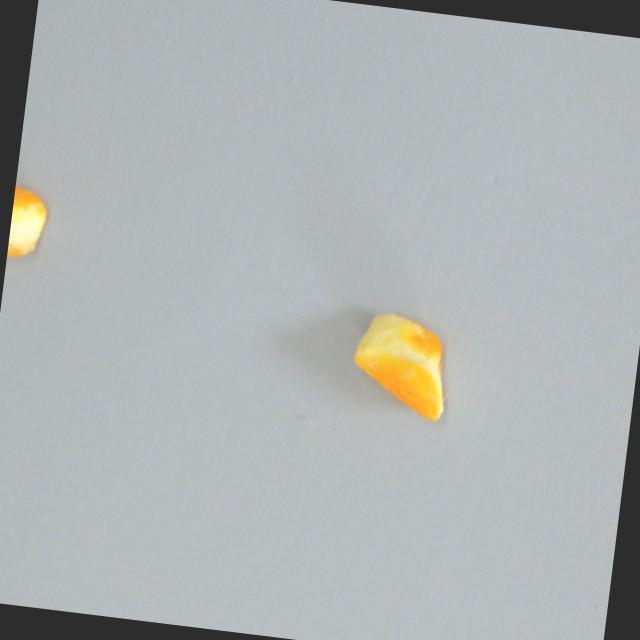estandar: (5, 179, 54, 268)
pelicula: (344, 300, 453, 422)
